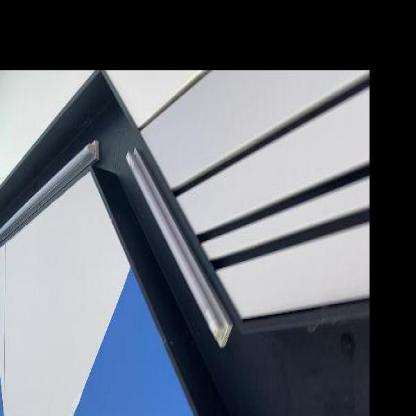light_off: (123, 126, 236, 359), (0, 120, 104, 290)
